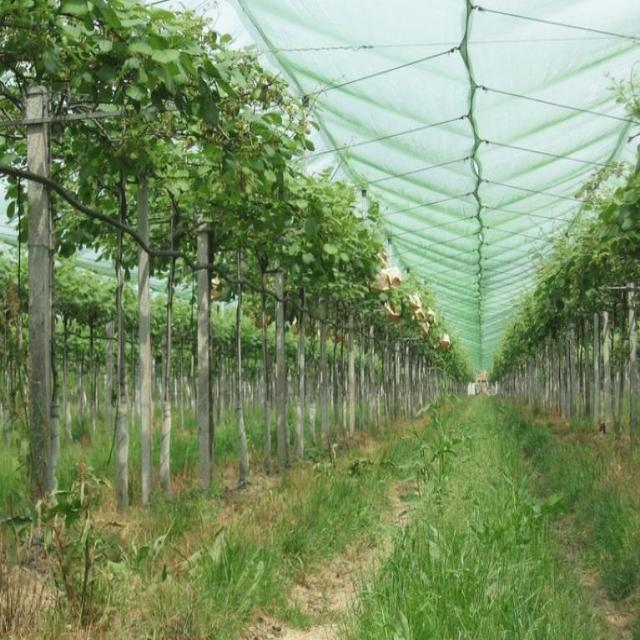row: (0, 393, 640, 640)
